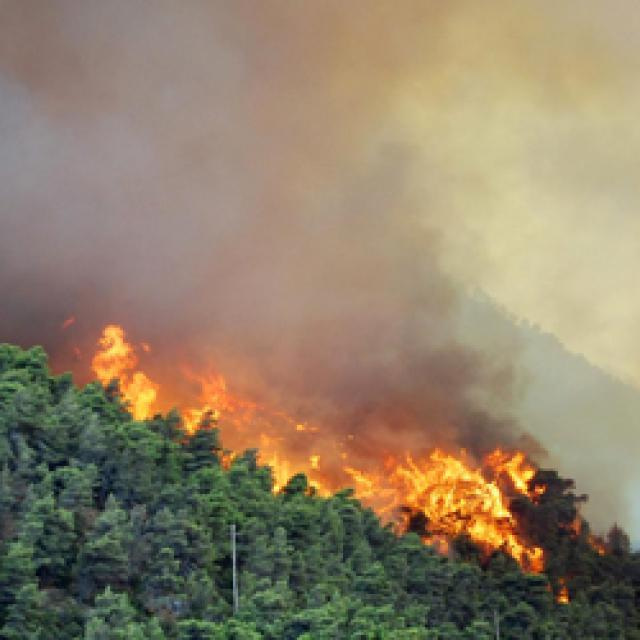Fire: (336, 434, 546, 576), (176, 364, 333, 497), (87, 320, 160, 424), (569, 515, 607, 557)
Smoke: (0, 0, 640, 326), (243, 366, 640, 435), (161, 326, 640, 366), (549, 440, 640, 519)
